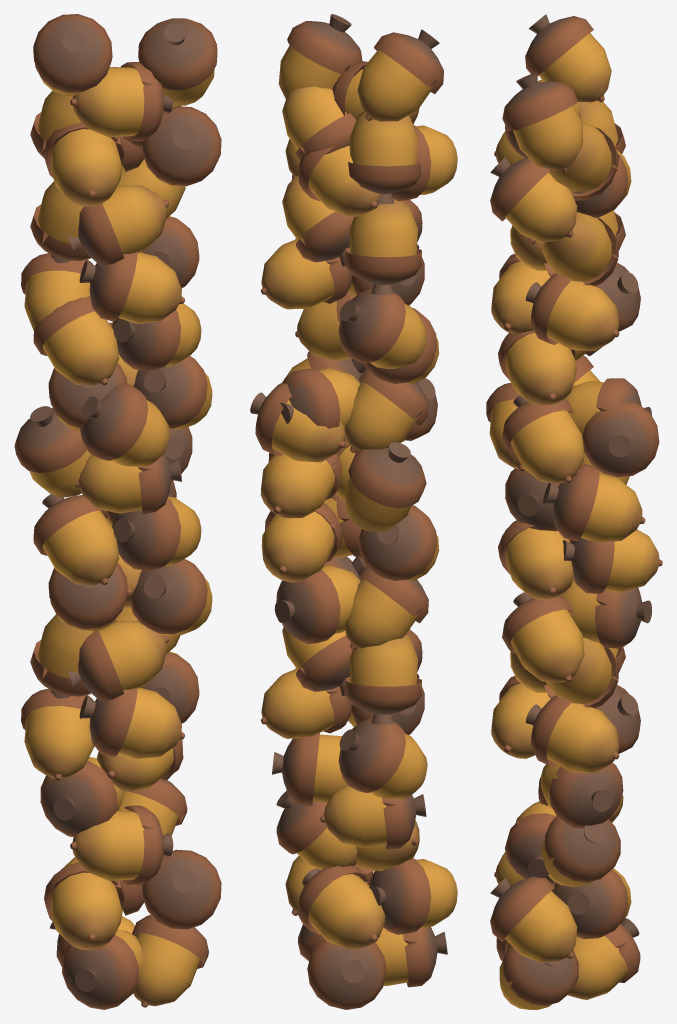
Rendered from Acore_Acorns_MDL.fbx.
3 views of the same model, side by side, from view 1: azimuth 30°, elevation 25°; view 2: azimuth 150°, elevation 25°; view 3: azimuth 270°, elevation 25° (orthographic). The views are drawn at different scales.
Visible parts, largest first — view 1: Acorn17, Acorn8, Acorn26, Acorn34, Acorn10, Acorn16, Acorn41, Acorn31, Acorn38, Acorn47, Acorn3, Acorn48 (+27 smaller); view 2: Acorn48, Acorn4, Acorn23, Acorn9, Acorn36, Acorn37, Acorn3, Acorn15, Acorn46, Acorn20, Acorn6, Acorn32 (+31 smaller); view 3: Acorn5, Acorn47, Acorn24, Acorn22, Acorn13, Acorn35, Acorn40, Acorn33, Acorn48, Acorn19, Acorn28, Acorn25 (+26 smaller).
Boxes of the visible parts, <box> form: Acorn17: <box>33,494,119,585</box>; Acorn8: <box>70,805,173,884</box>; Acorn26: <box>80,383,170,466</box>; Acorn34: <box>79,252,184,323</box>; Acorn10: <box>79,688,184,759</box>; Acorn16: <box>67,620,168,700</box>; Acorn41: <box>70,62,173,141</box>; Acorn31: <box>33,296,119,385</box>; Acorn38: <box>67,185,168,265</box>; Acorn47: <box>138,18,217,105</box>; Acorn3: <box>44,862,124,950</box>; Acorn48: <box>33,14,112,96</box>; Acorn48: <box>357,29,443,121</box>; Acorn4: <box>298,865,385,950</box>; Acorn23: <box>344,442,426,532</box>; Acorn9: <box>338,718,427,799</box>; Acorn36: <box>338,288,427,368</box>; Acorn37: <box>344,198,421,295</box>; Acorn3: <box>369,858,457,934</box>; Acorn15: <box>344,634,421,724</box>; Acorn46: <box>348,111,421,204</box>; Acorn20: <box>274,565,360,644</box>; Acorn6: <box>320,786,426,849</box>; Acorn32: <box>345,369,428,452</box>; Acorn5: <box>490,876,577,963</box>; Acorn47: <box>502,72,583,172</box>; Acorn24: <box>543,464,645,542</box>; Acorn22: <box>502,592,584,682</box>; Acorn13: <box>525,695,619,773</box>; Acorn35: <box>525,273,619,350</box>; Acorn40: <box>490,156,577,242</box>; Acorn33: <box>502,395,584,483</box>; Acorn48: <box>525,14,611,102</box>; Acorn19: <box>563,529,662,594</box>; Acorn28: <box>498,330,576,405</box>; Acorn25: <box>582,402,659,477</box>.
Bounding box in the file's own units: 18.43 × 104 × 17.41.
